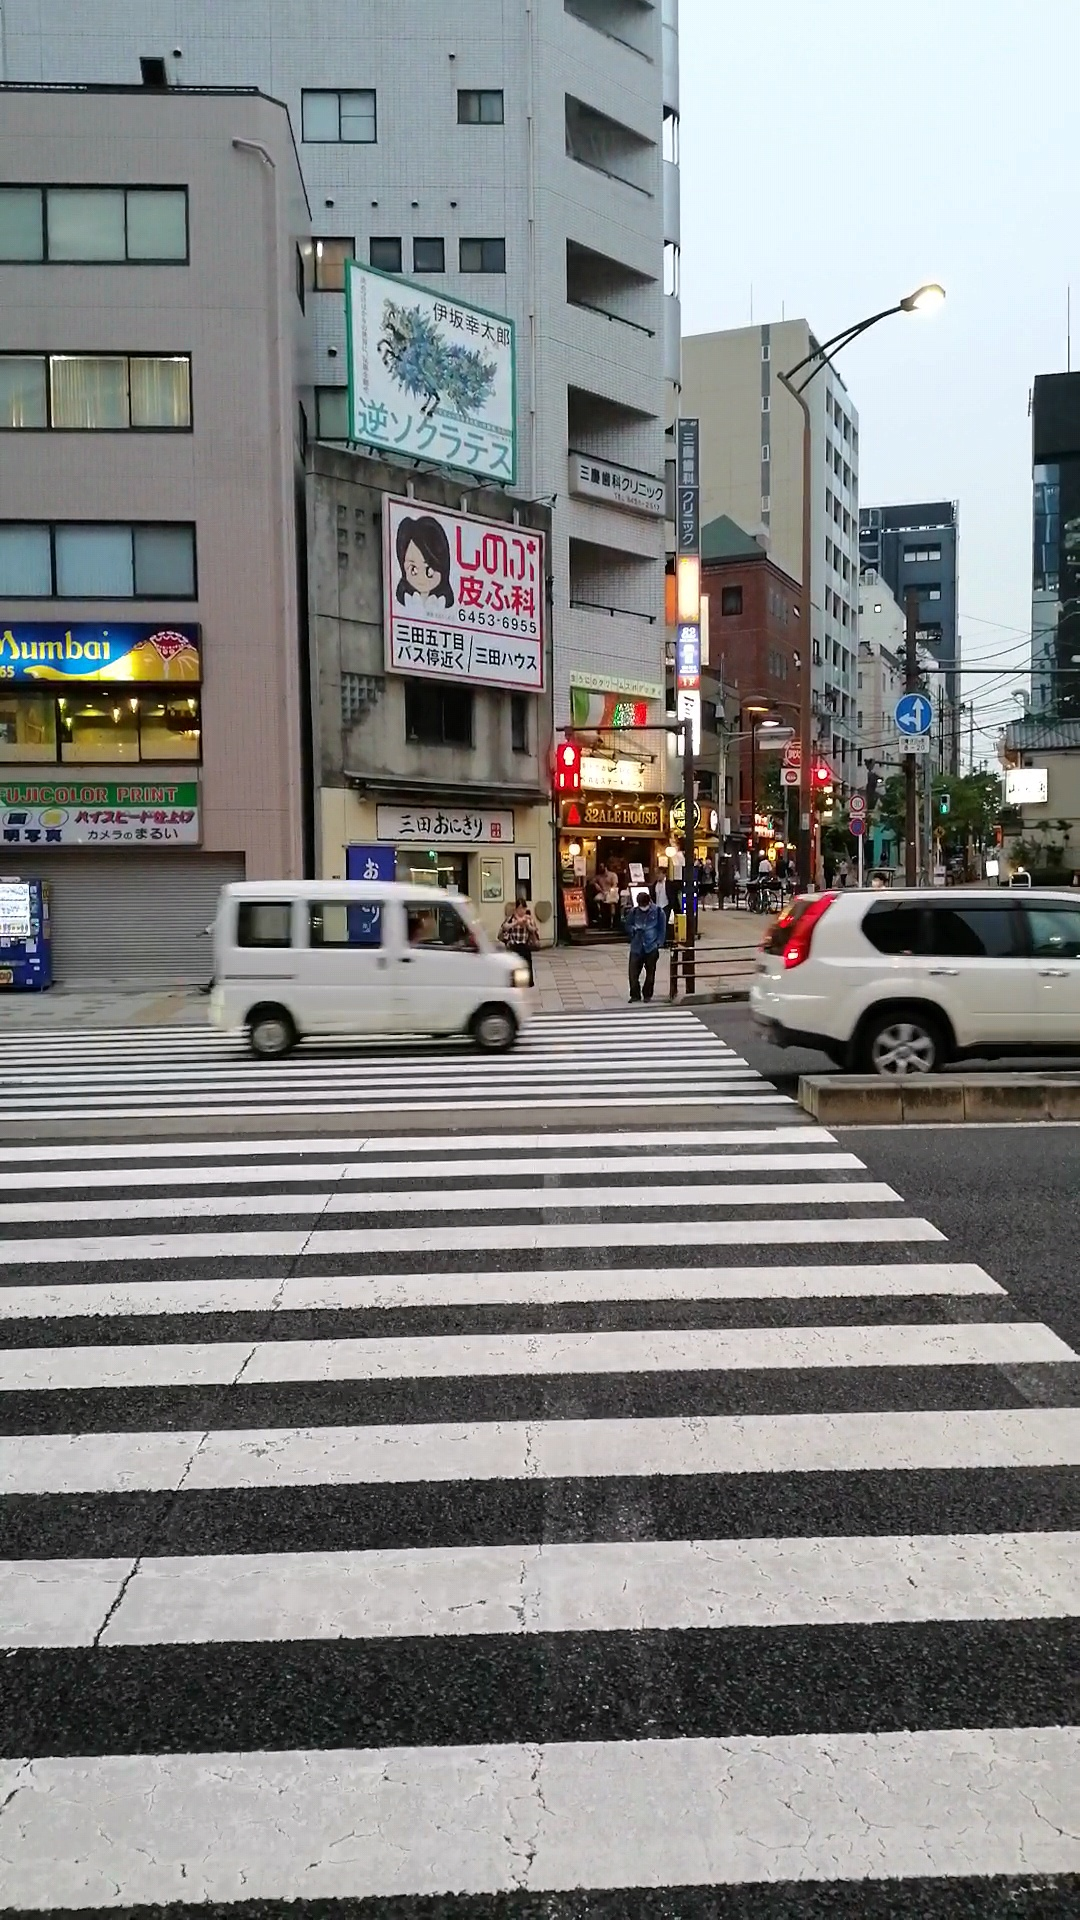red: (554, 744, 582, 794)
